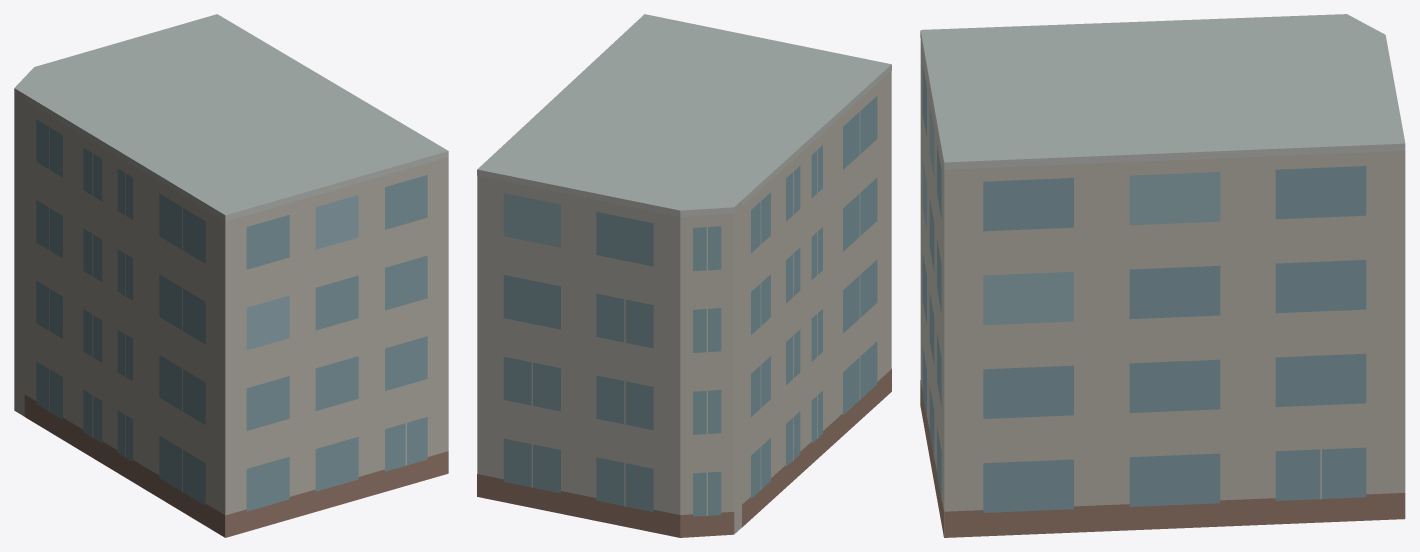
File: survey-upis-32738046.glb
3 renders of one model, left to right at view 1: azimuth 30°, elevation 25°; view 2: azimuth 150°, elevation 25°; view 3: azimuth 270°, elevation 25°, orthographic. The views are drawn at different scales.
Visible parts, largest first — view 1: survey-upis-32738046.tmp; view 2: survey-upis-32738046.tmp; view 3: survey-upis-32738046.tmp.
Boxes of the visible parts, box(x1,y1,x2,y2) form: survey-upis-32738046.tmp: box(14, 14, 448, 537); survey-upis-32738046.tmp: box(477, 14, 891, 537); survey-upis-32738046.tmp: box(920, 14, 1405, 537).
Size of the model in its own units: 10.86 by 12.8 by 15.
